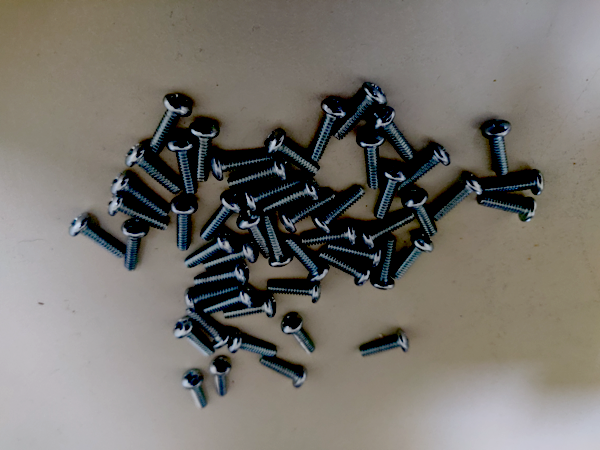shortscrew: (332, 81, 388, 140), (125, 143, 183, 195), (397, 143, 452, 192), (265, 129, 321, 177), (279, 188, 337, 234), (431, 172, 484, 222), (149, 94, 193, 154), (111, 174, 170, 218), (69, 213, 125, 259), (309, 99, 349, 163), (312, 187, 366, 234), (370, 107, 415, 161), (242, 174, 304, 213), (358, 210, 415, 250), (200, 190, 244, 241), (109, 194, 168, 232), (358, 211, 415, 250), (262, 178, 321, 214), (285, 236, 330, 283), (228, 155, 290, 189), (391, 233, 435, 280), (183, 230, 237, 268), (319, 249, 371, 287), (210, 151, 274, 181), (375, 164, 409, 220), (186, 307, 231, 349), (190, 120, 220, 182), (402, 188, 439, 238), (237, 209, 273, 260), (478, 193, 537, 223), (203, 240, 259, 271), (482, 170, 545, 197), (357, 131, 386, 189), (174, 317, 215, 358), (264, 213, 295, 267), (184, 282, 241, 311), (483, 119, 512, 175), (359, 328, 410, 359), (300, 221, 358, 248), (171, 195, 198, 252), (260, 356, 306, 388), (281, 313, 316, 354), (194, 262, 249, 288), (122, 219, 149, 271), (223, 294, 277, 320), (371, 237, 396, 291), (229, 330, 277, 358), (327, 243, 383, 267), (268, 280, 322, 304), (182, 369, 208, 409), (210, 356, 232, 397)
